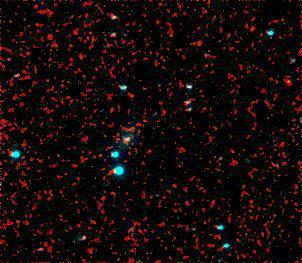star: (274, 69, 302, 99)
